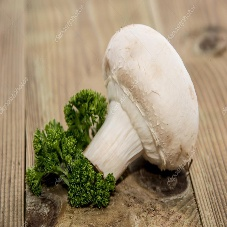mushroom: (87, 21, 205, 193)
